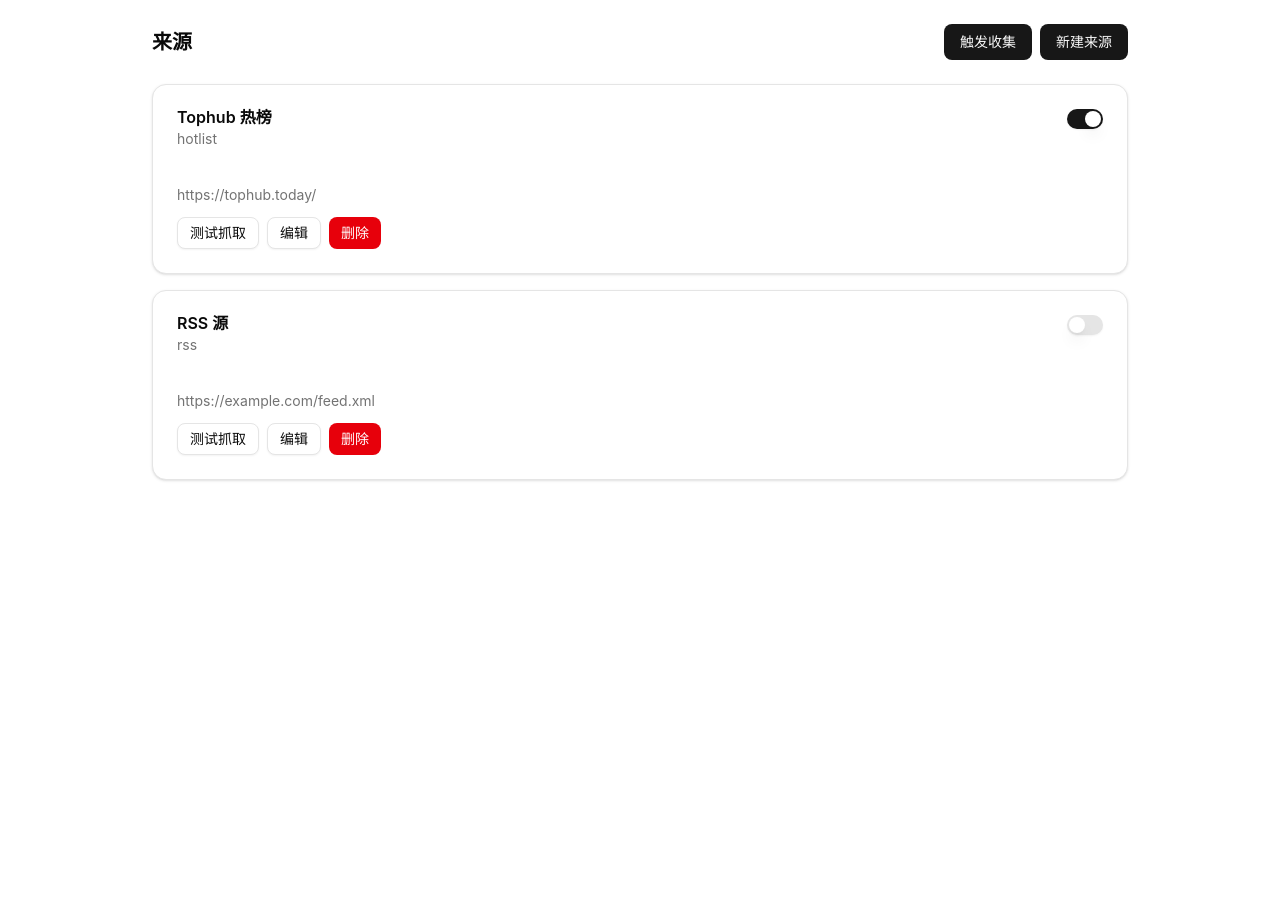
it: SourcesPage › fills channel preset defaults when a type is selected
Expected: the text "Tophub 热榜" is shown, [177,109,272,125]
Click the button "新建来源" at (1084, 42), box [1040,24,1128,60]
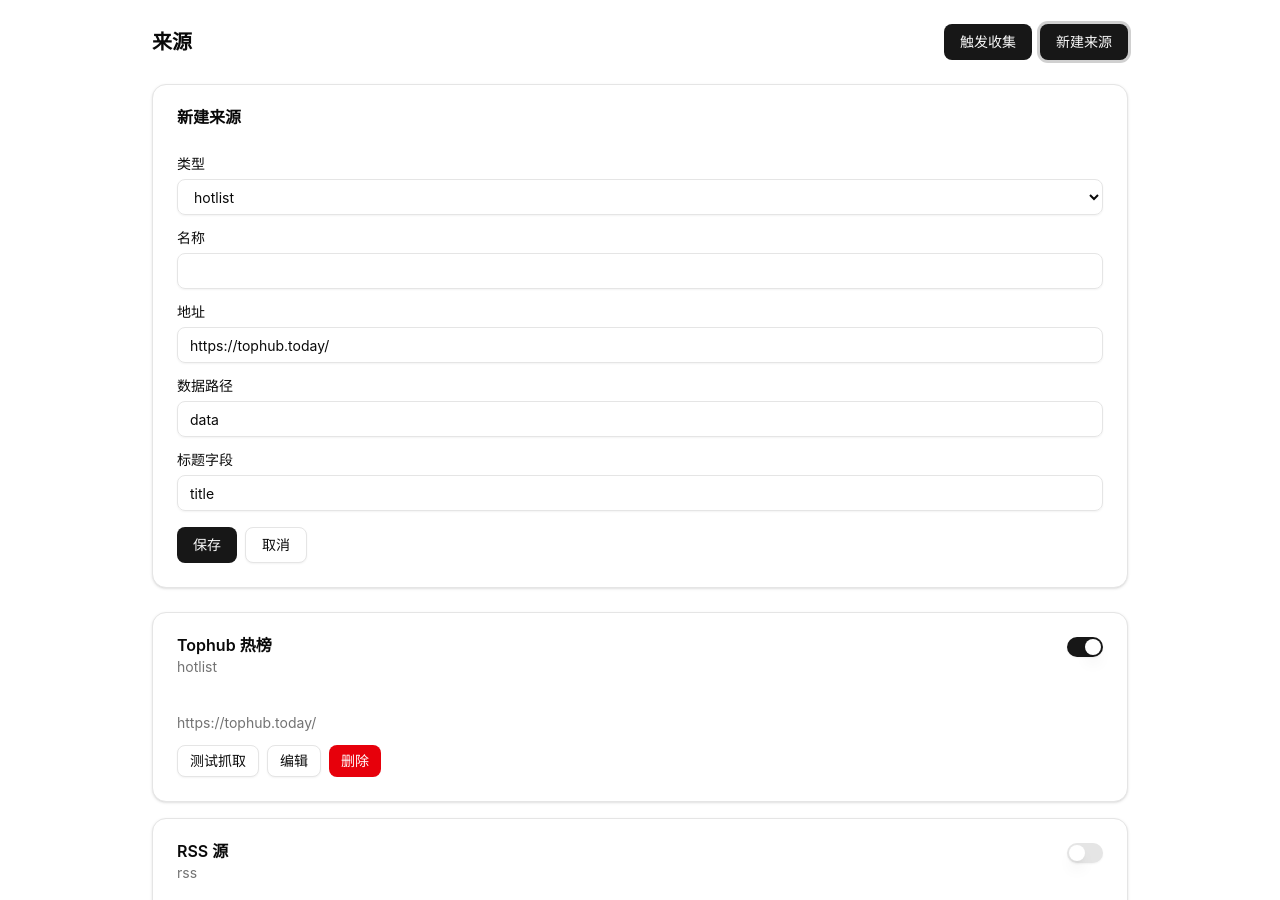
Select "github-trending" in the dropdown labelled "类型" at (640, 197), box [177,179,1103,215]
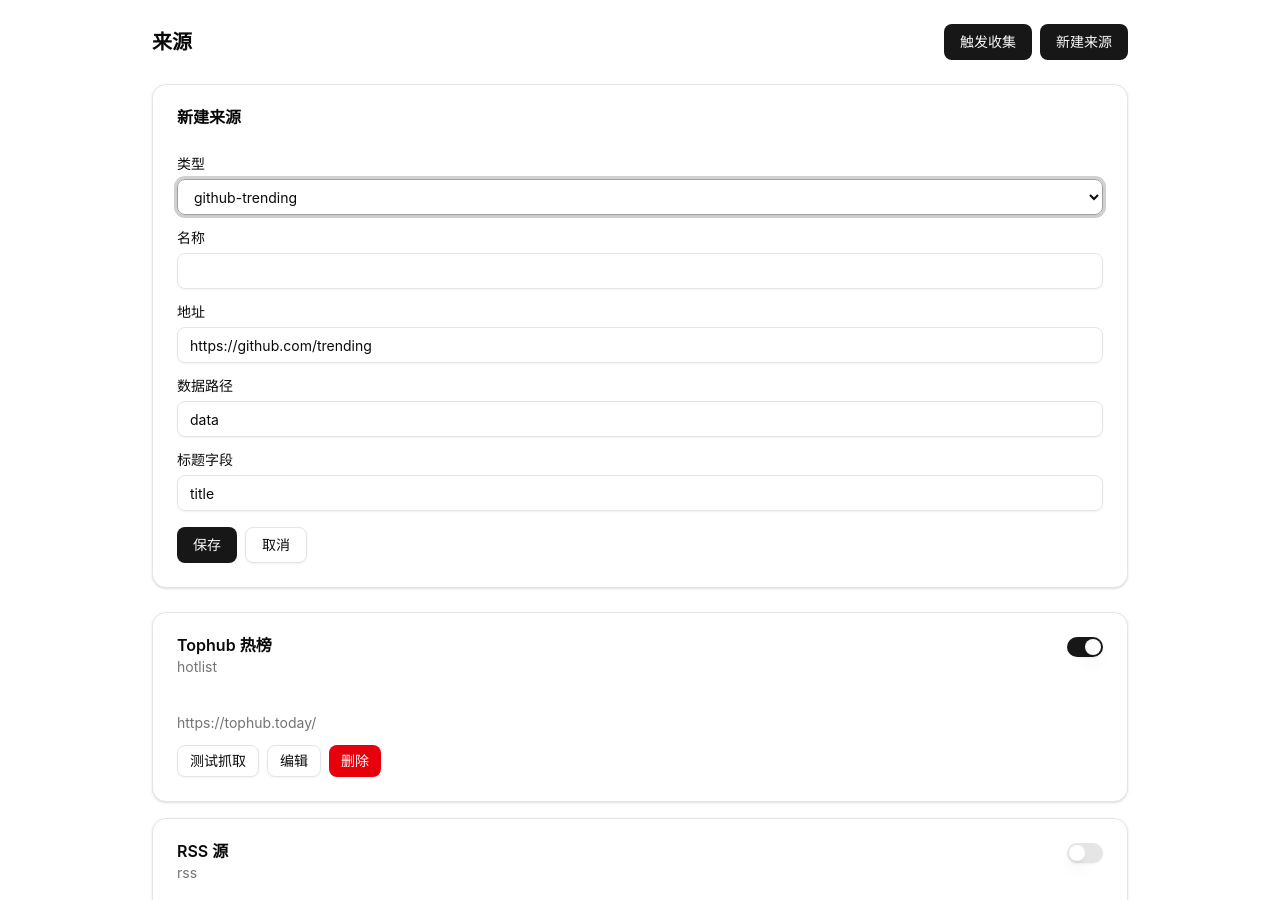
Now the field labelled "数据路径" holds "data", box [177,401,1103,437]
Now the field labelled "标题字段" holds "title", box [177,475,1103,511]
Now the field labelled "地址" holds "https://github.com/trending", box [177,327,1103,363]
